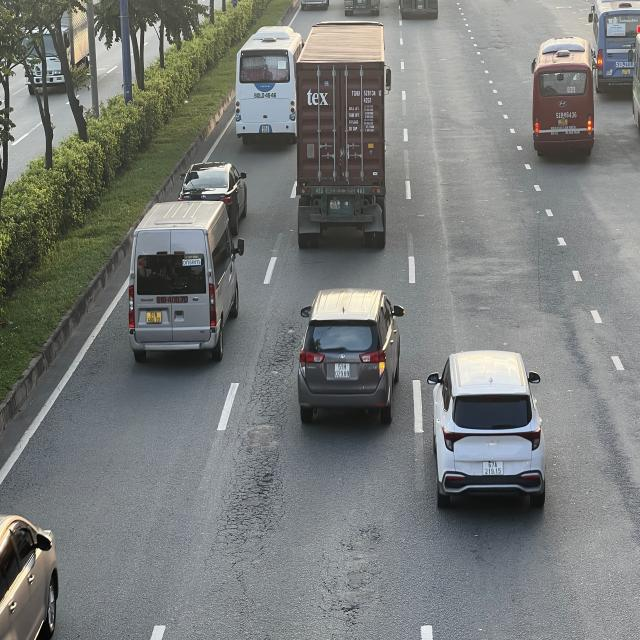car: (429, 351, 547, 509), (297, 289, 405, 425), (0, 516, 59, 640), (178, 160, 250, 210)
coach: (532, 37, 596, 156), (236, 26, 298, 146), (588, 0, 637, 92)
container: (295, 23, 389, 254)
van: (130, 201, 248, 364)
